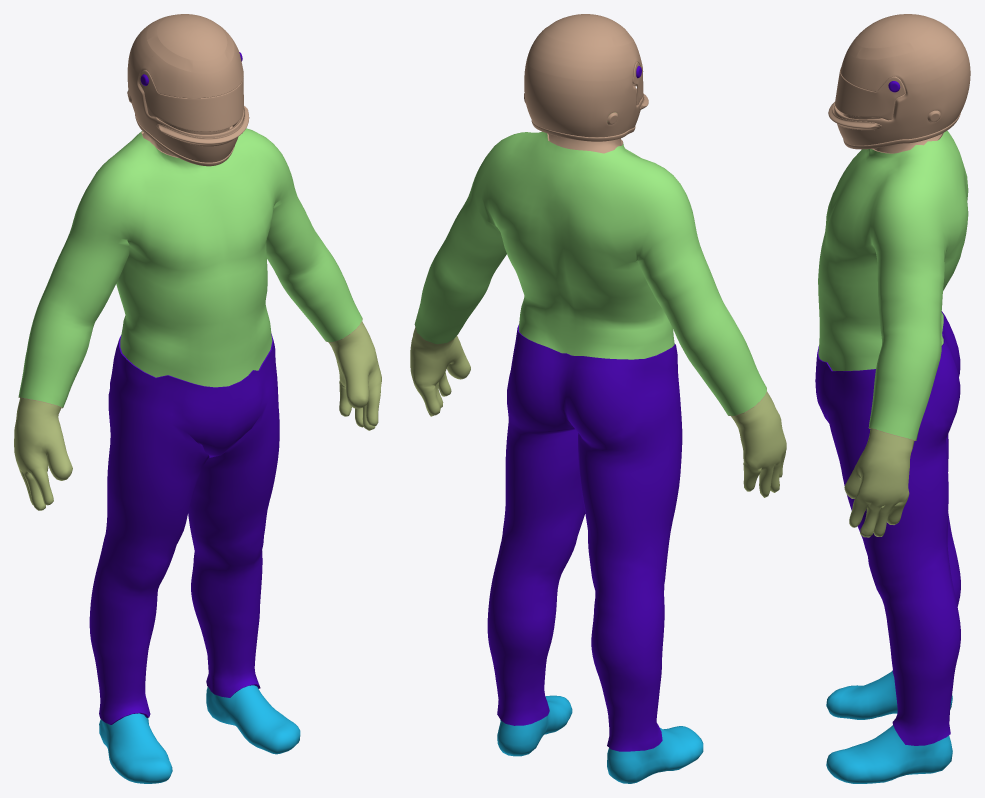
File: manwithhelmet.fbx
The picture shows the model from 3 angles, left to right: view 1: azimuth 30°, elevation 25°; view 2: azimuth 150°, elevation 25°; view 3: azimuth 270°, elevation 25°; orthographic projection. The views are drawn at different scales.
Visible parts, largest first — view 1: humanBody_Copy; view 2: humanBody_Copy; view 3: humanBody_Copy.
Boxes of the visible parts, <box> form: humanBody_Copy: <box>14,14,381,783</box>; humanBody_Copy: <box>410,14,786,783</box>; humanBody_Copy: <box>815,14,970,783</box>.
Size of the model in its own units: 38.31 by 74.11 by 14.34.
